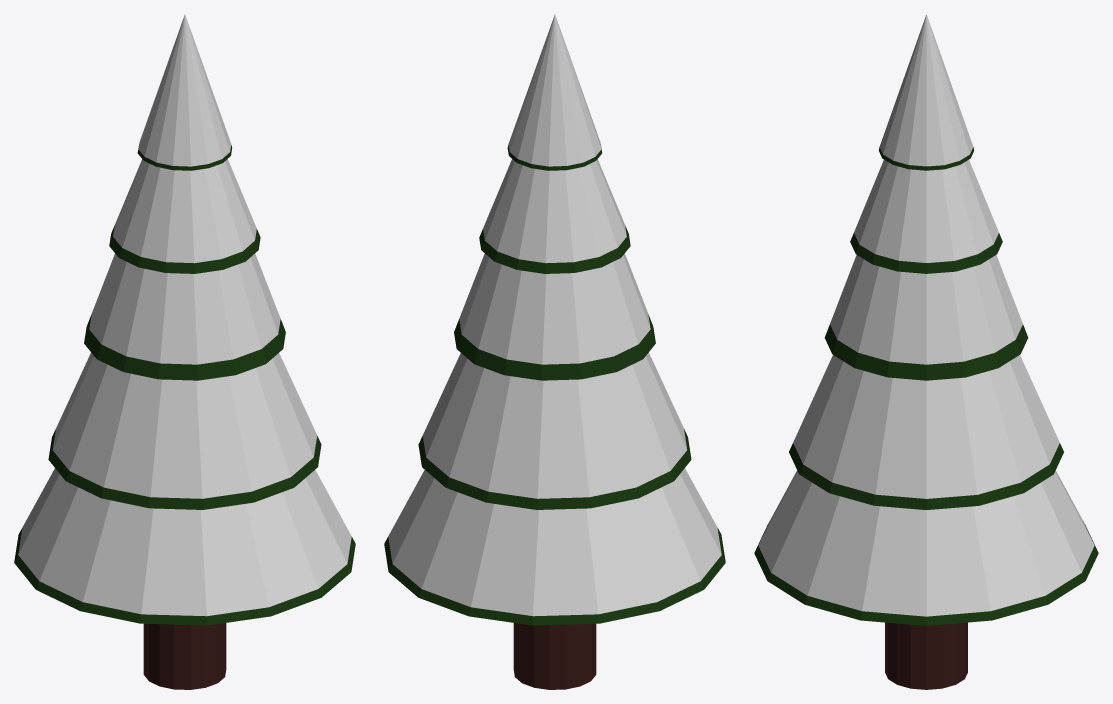
The model's file is Tanne2b.fbx.
The picture shows the model from 3 angles, left to right: view 1: azimuth 30°, elevation 25°; view 2: azimuth 150°, elevation 25°; view 3: azimuth 270°, elevation 25°; orthographic projection.
Visible parts, largest first — view 1: Tanne2.001; view 2: Tanne2.001; view 3: Tanne2.001.
Part boxes in pixels (<box>): Tanne2.001: <box>14,14,355,689</box>; Tanne2.001: <box>384,14,725,689</box>; Tanne2.001: <box>754,14,1098,689</box>.
Size of the model in its own units: 1148 by 2422 by 1148.
